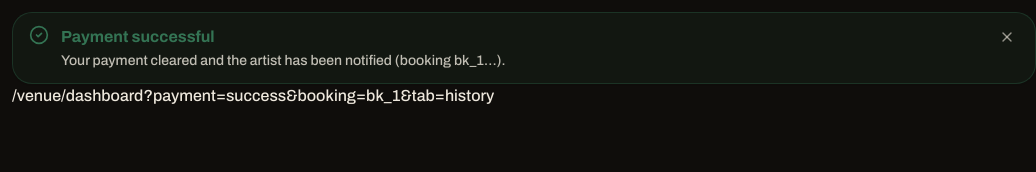
Scenario: StripeReturnBanner — venue › dismiss button strips payment/booking params from the URL
Click the button named "Dismiss".
click(1007, 37)  # box [995, 25, 1019, 49]
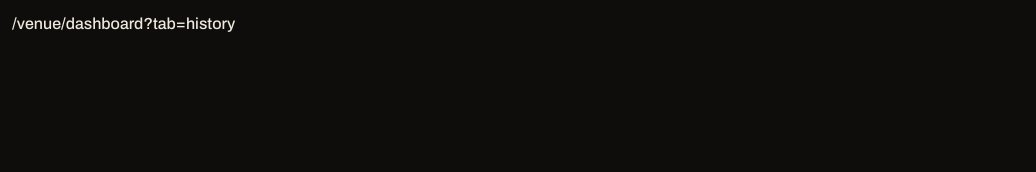
Now the text with test id "loc" reads "/venue/dashboard?tab=history", box [12, 15, 235, 32]
